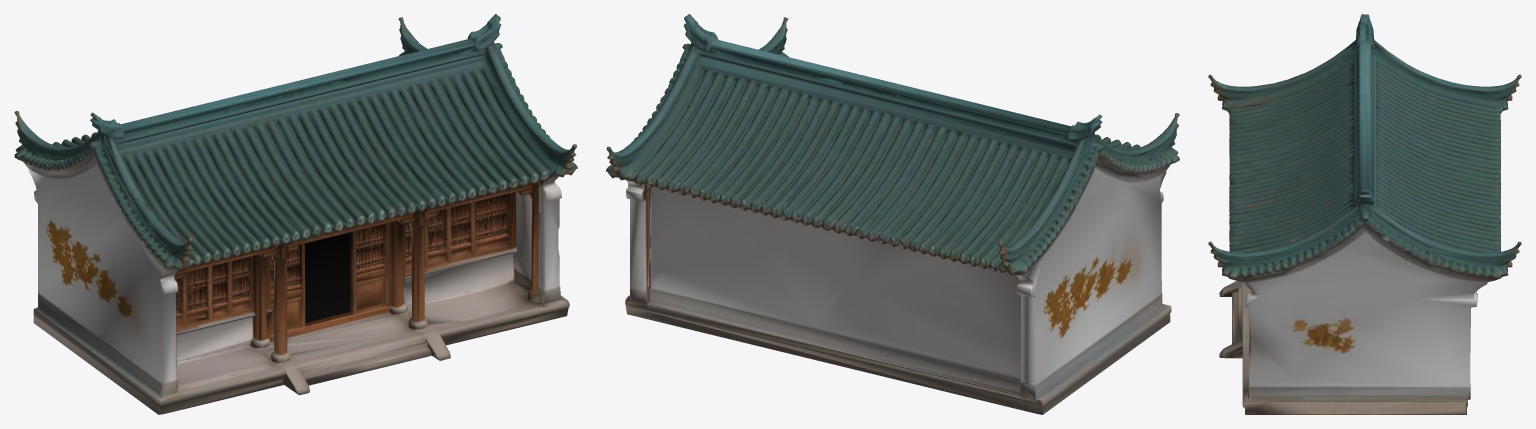
The model's file is qiushuang.glb.
3 views of the same model, side by side, from view 1: azimuth 30°, elevation 25°; view 2: azimuth 150°, elevation 25°; view 3: azimuth 270°, elevation 25° (orthographic). The views are drawn at different scales.
Parts seen in each view (by area): view 1: material; view 2: material; view 3: material.
Boxes of the visible parts, x1,y1,x2,y2 form: material: (14,14,577,414); material: (606,14,1179,414); material: (1208,14,1521,414).
Size of the model in its own units: 0.937 by 0.5495 by 0.6942.
1 material, 1 textured.
